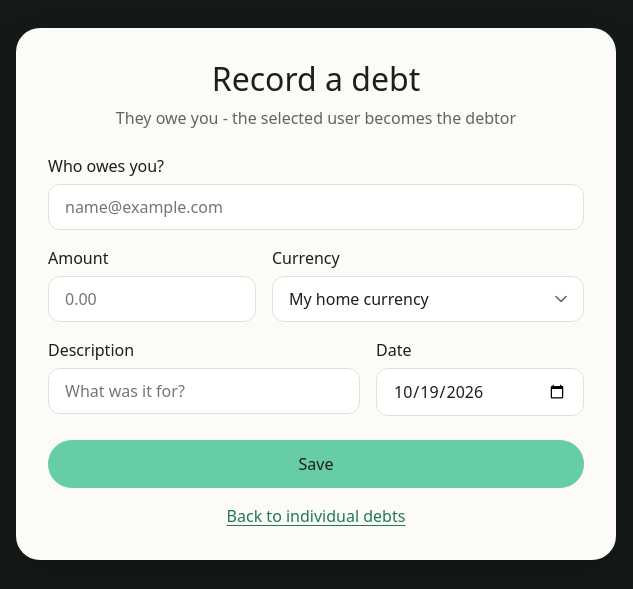
Scenario: AddIndividualDebt › AC9: shows the server's "cannot be yourself" message
Type "me@example.com" into the field labelled "Who owes you?" at (316, 207), box 48,184 -> 584,230
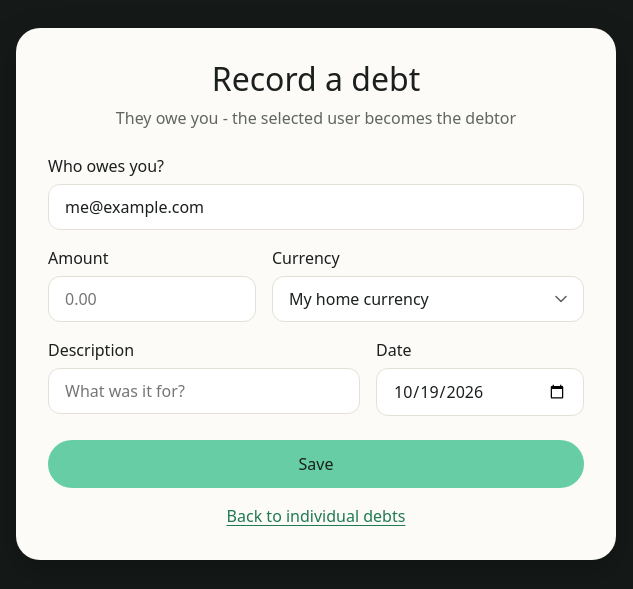
Type "25.00" into the number field labelled "Amount" at (152, 299), box 48,276 -> 256,322
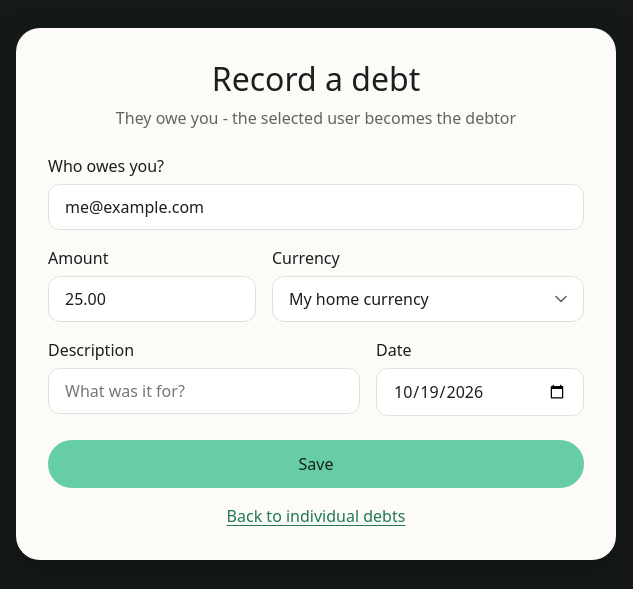
Type "Lunch" into the field labelled "Description" at (204, 391), box 48,368 -> 360,414
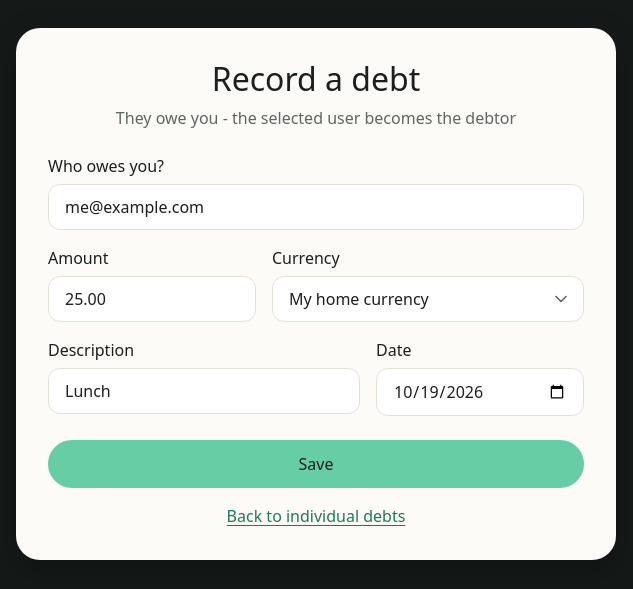
Type "2026-10-01" into the date field labelled "Date" at (480, 392), box 376,368 -> 584,416
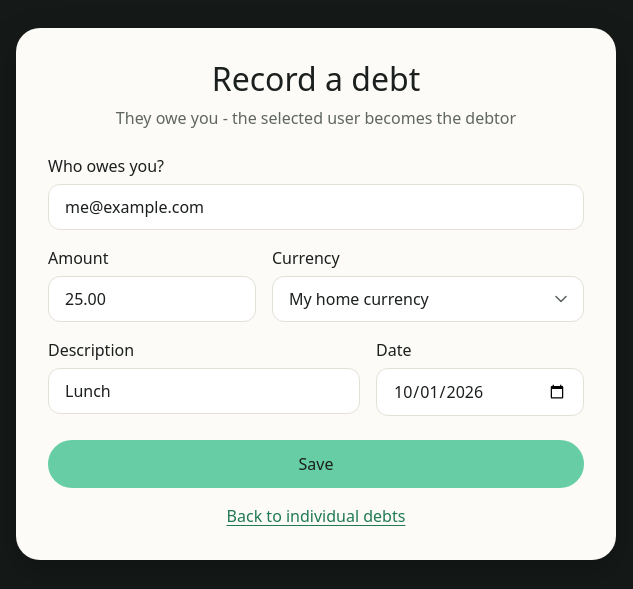
Click the button "Save" at (316, 464), box 48,440 -> 584,488
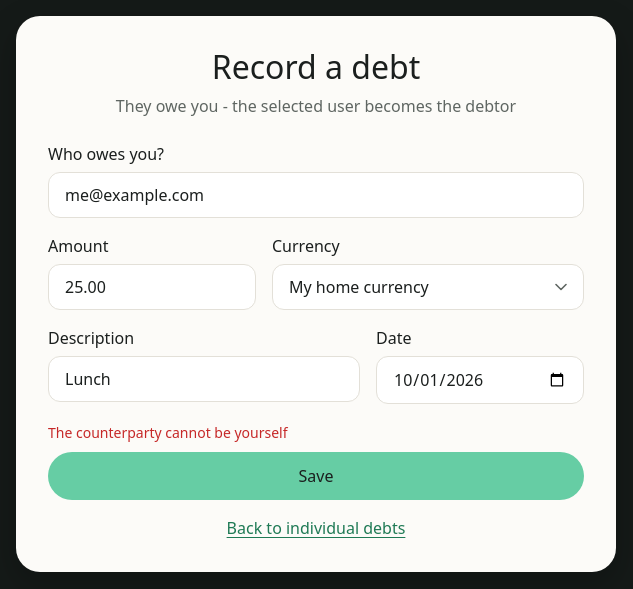
Check: the text "The counterparty cannot be yourself" is shown, box 48,423 -> 288,442
